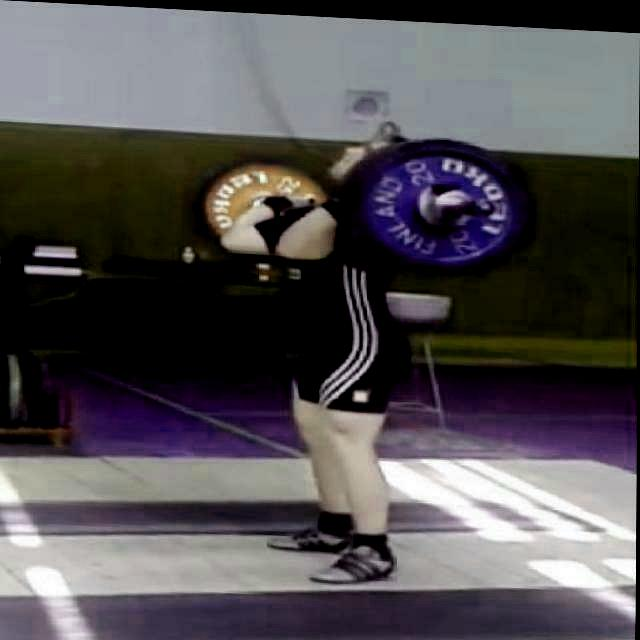barbell: (347, 128, 527, 277)
